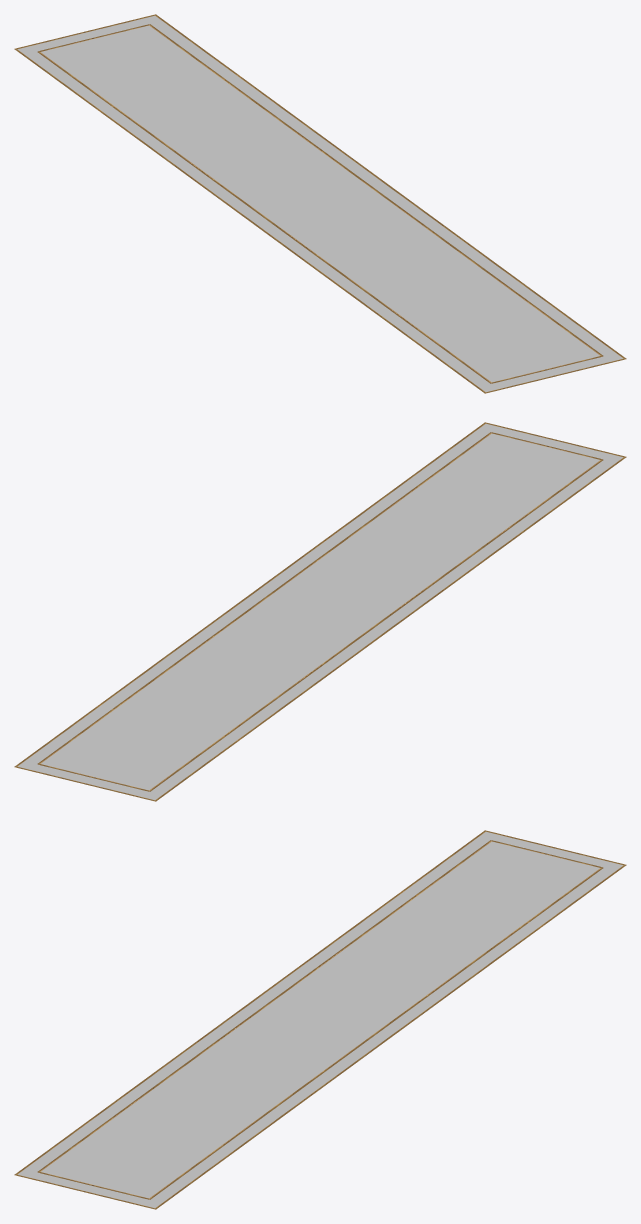
The model's file is Carpet_G.fbx.
3 views of the same model, one above another, from view 1: azimuth 30°, elevation 25°; view 2: azimuth 150°, elevation 25°; view 3: azimuth 330°, elevation 25° (orthographic).
Visible parts, largest first — view 1: Carpet_G; view 2: Carpet_G; view 3: Carpet_G.
Part boxes in pixels (left/top/right/bottom): Carpet_G: left=14, top=14, right=626, bottom=393; Carpet_G: left=14, top=422, right=626, bottom=801; Carpet_G: left=14, top=830, right=626, bottom=1209.
Size of the model in its own units: 0.327 by 1.15e-16 by 1.88.
